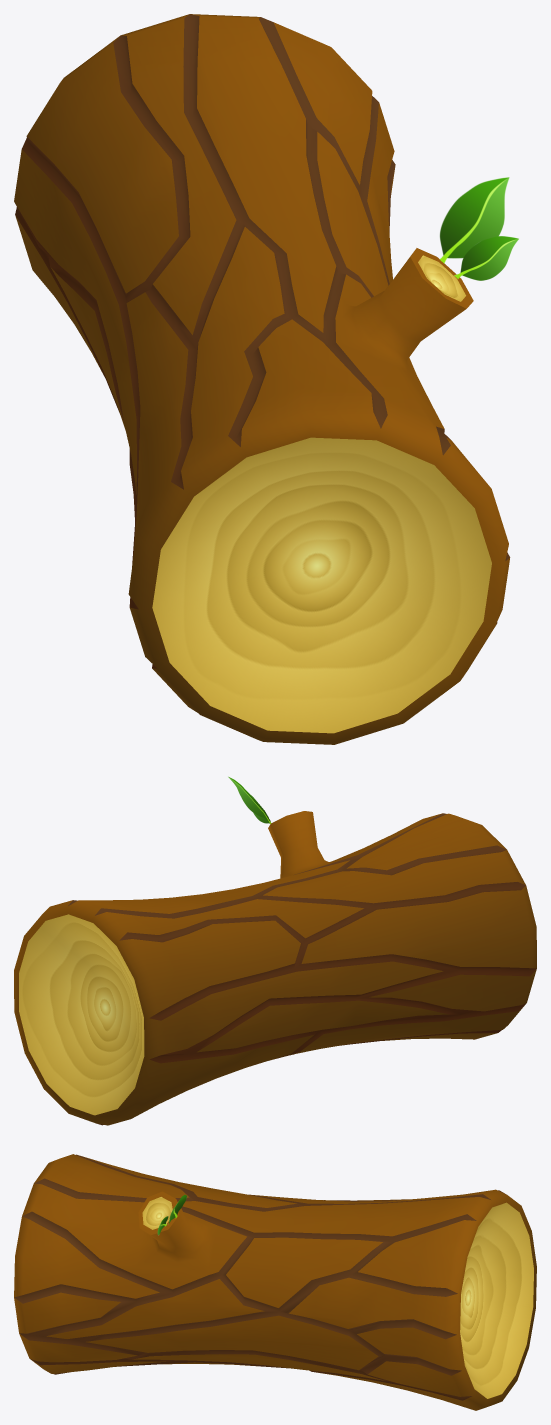
Rendered from wood_log_low_poly.glb.
3 renders of one model, top to bottom at view 1: azimuth 30°, elevation 25°; view 2: azimuth 150°, elevation 25°; view 3: azimuth 270°, elevation 25°, orthographic. The views are drawn at different scales.
Parts seen in each view (by area): view 1: Cylinder003_tex_001_0, Plane003_tex_002_0, Plane004_tex_002_0; view 2: Cylinder003_tex_001_0, Plane003_tex_002_0; view 3: Cylinder003_tex_001_0.
Part boxes in pixels (box(x1,y1,x2,y2)): Cylinder003_tex_001_0: box(14, 14, 510, 744); Plane003_tex_002_0: box(439, 177, 509, 263); Plane004_tex_002_0: box(454, 236, 518, 280); Cylinder003_tex_001_0: box(14, 811, 536, 1125); Plane003_tex_002_0: box(228, 776, 270, 823); Cylinder003_tex_001_0: box(14, 1154, 536, 1410).
Size of the model in its own units: 81.79 by 61.91 by 115.
2 materials, 2 textured.
